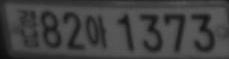1: (115, 12, 139, 50)
2: (62, 10, 86, 49)
3: (189, 12, 216, 52), (139, 13, 164, 53)
7: (164, 12, 187, 53)
8: (41, 9, 62, 48)
경남_V: (16, 8, 41, 48)
아: (86, 14, 108, 48)
